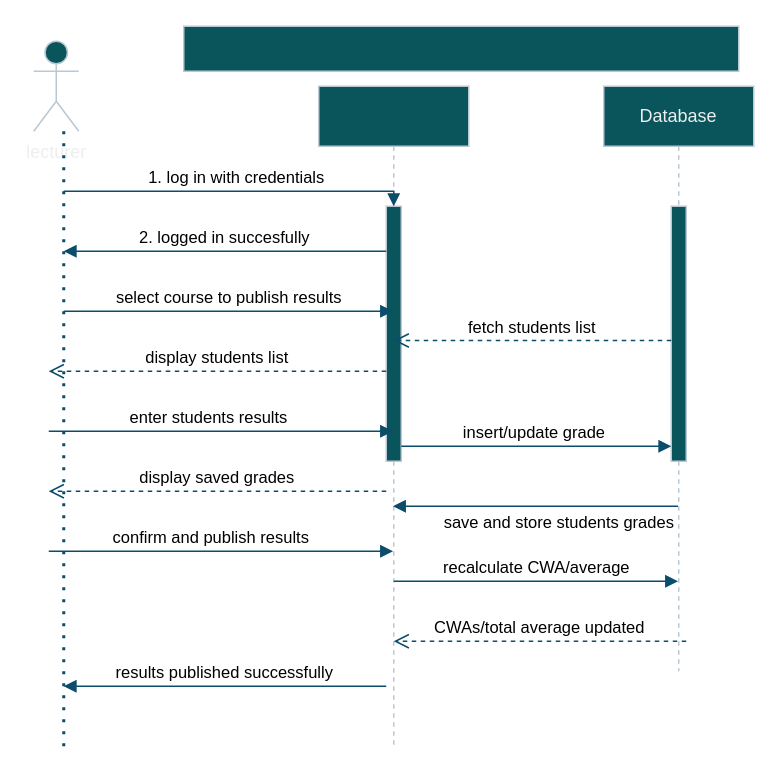
Some shapes in this 780 by 776 pixel diagram are drawn without their labels. The shapes that lost their labels are listed below. From the top down, each one's centre as x and y in pixels, then its label:
At point 460,48: "SEQUENCE DIAGRAM FLOW FOR LECTURER PUBLISHES RESULTS".
At point 393,415: "portal".
